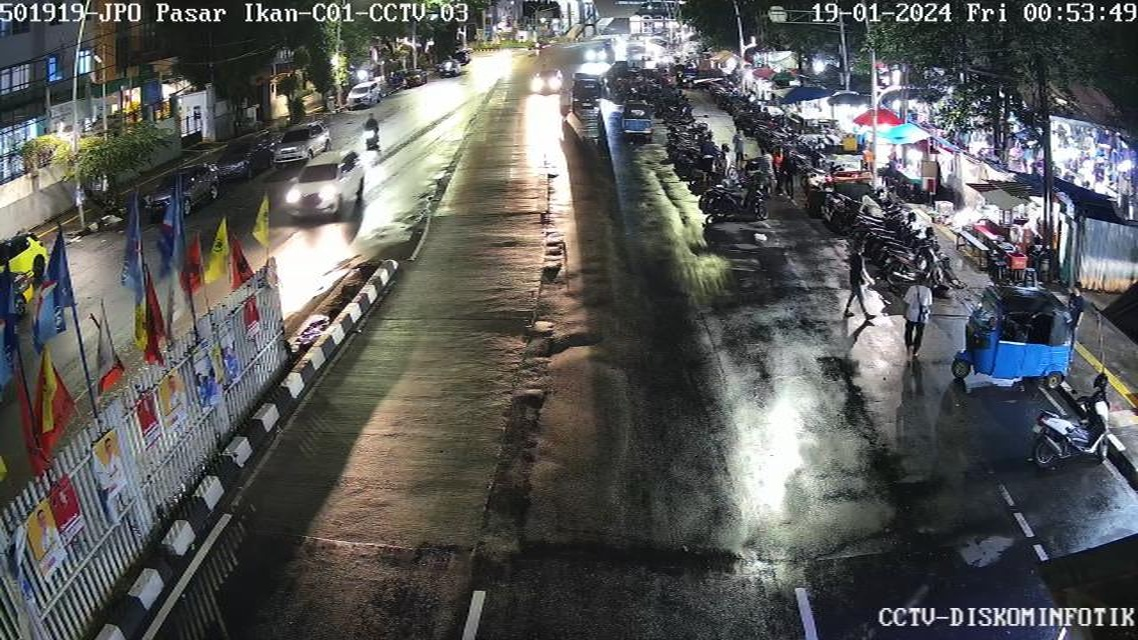Emperan: (957, 168, 1063, 298)
